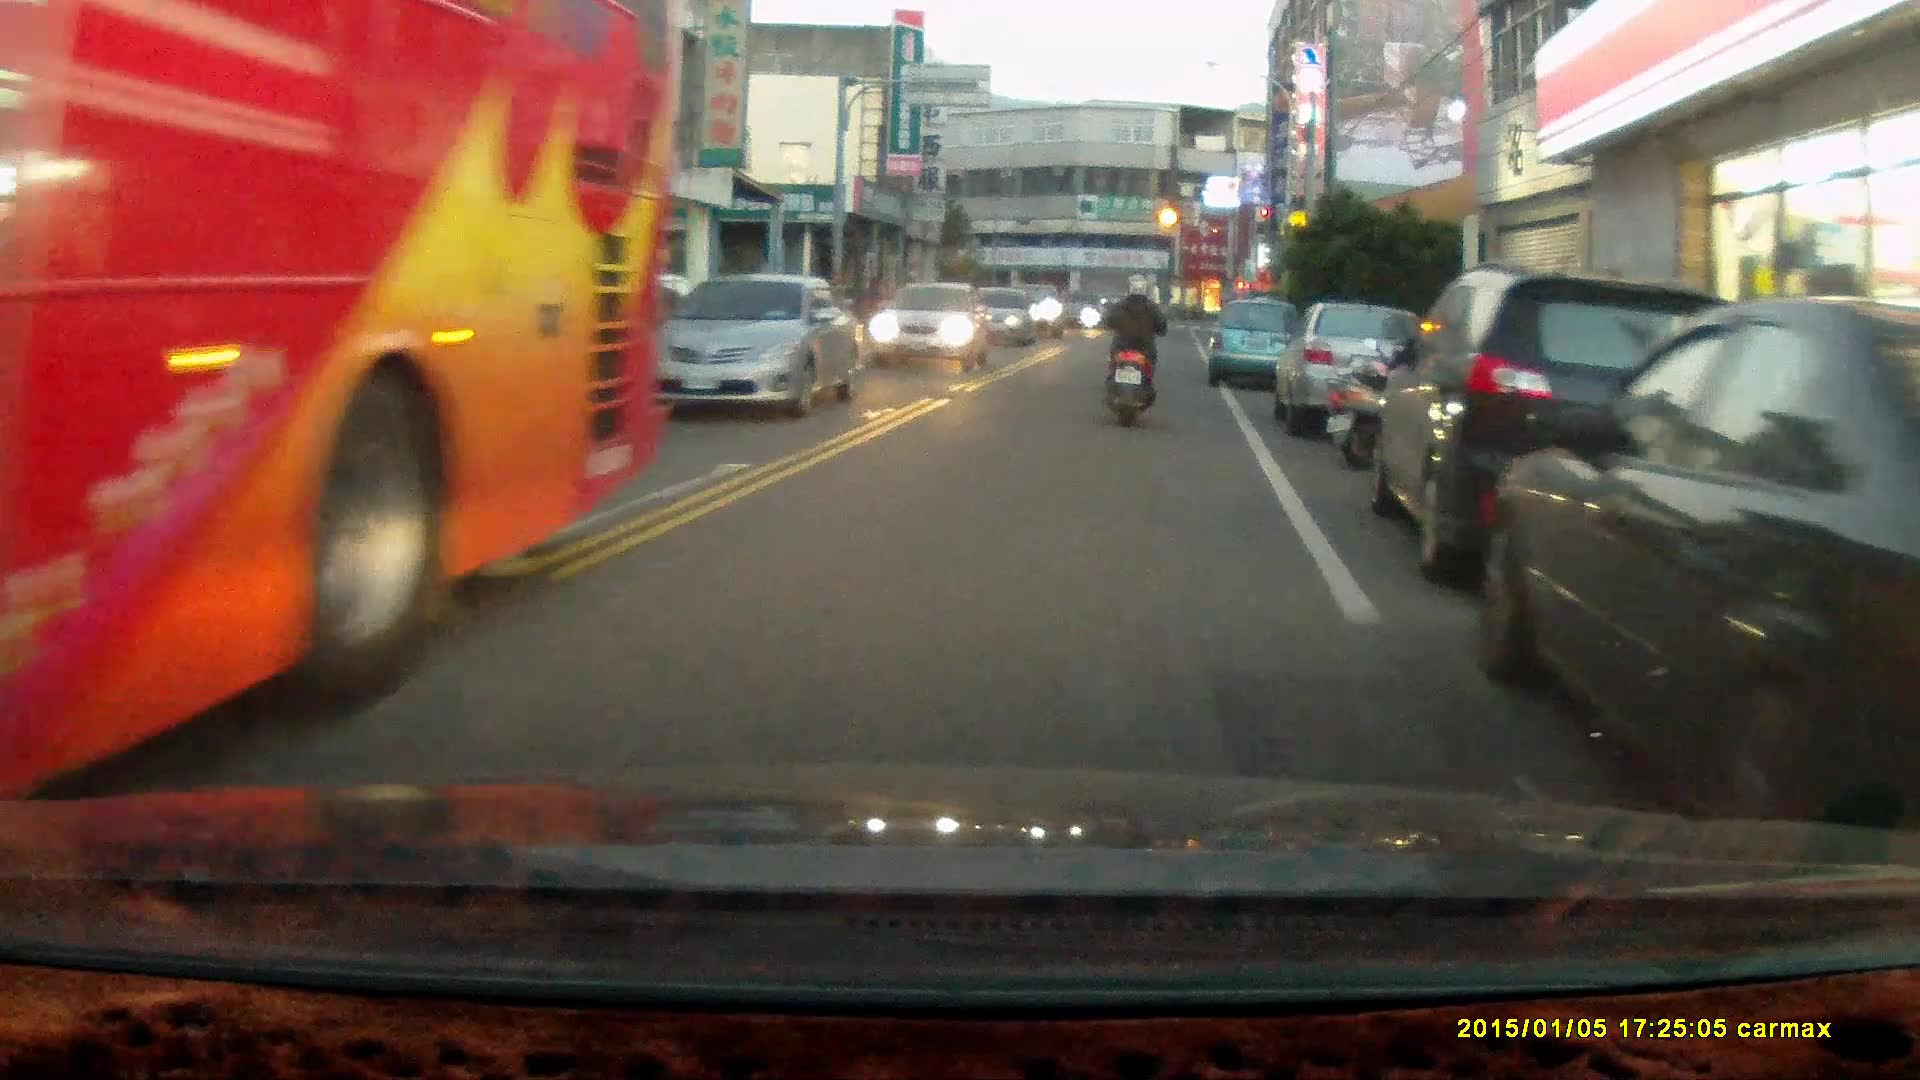rider: (1099, 272, 1167, 430)
vehicle: (1, 9, 670, 798), (1477, 298, 1920, 868), (1366, 264, 1820, 587), (633, 274, 867, 411), (1278, 304, 1451, 445), (870, 283, 993, 374), (1204, 301, 1304, 396), (959, 286, 1043, 350)
